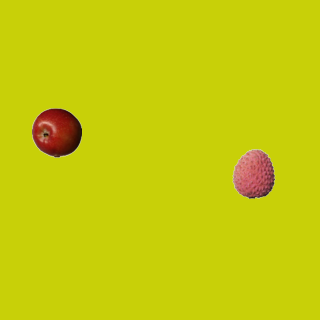Apple Braeburn: (31, 107, 81, 157)
Lychee: (228, 148, 278, 198)
